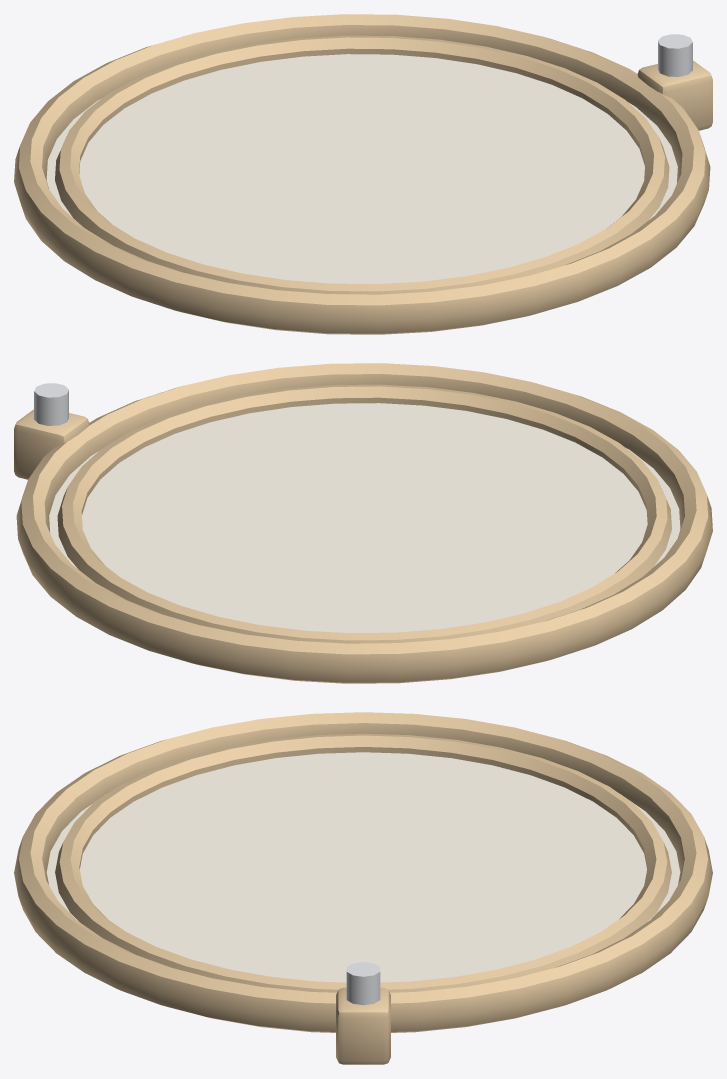
The model's file is embroidery_hoop.glb.
3 renders of one model, top to bottom at view 1: azimuth 30°, elevation 25°; view 2: azimuth 150°, elevation 25°; view 3: azimuth 270°, elevation 25°, orthographic.
Parts seen in each view (by area): view 1: embroidery_hoop; view 2: embroidery_hoop; view 3: embroidery_hoop.
Boxes of the visible parts, box(x1,y1,x2,y2) form: embroidery_hoop: box(14, 14, 712, 334); embroidery_hoop: box(14, 363, 712, 683); embroidery_hoop: box(14, 712, 712, 1064).
Bounding box in the file's own units: 0.1897 × 0.024 × 0.1784.
